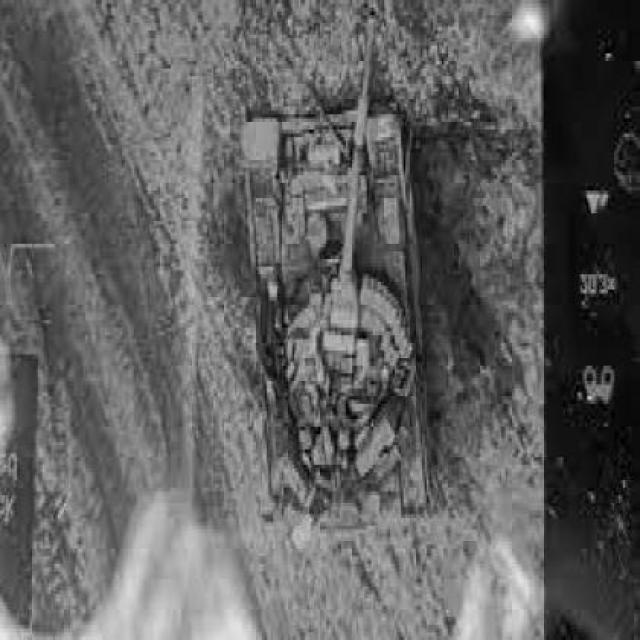tank: (241, 12, 434, 530)
